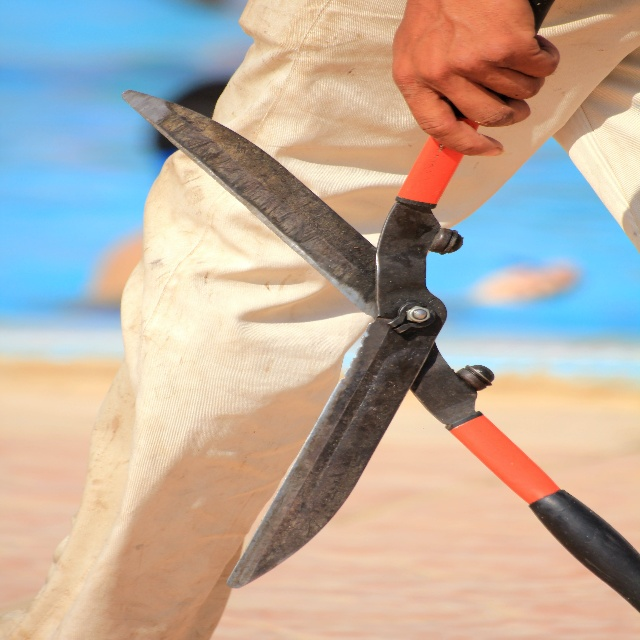Sin_guantes: (391, 0, 560, 157)
